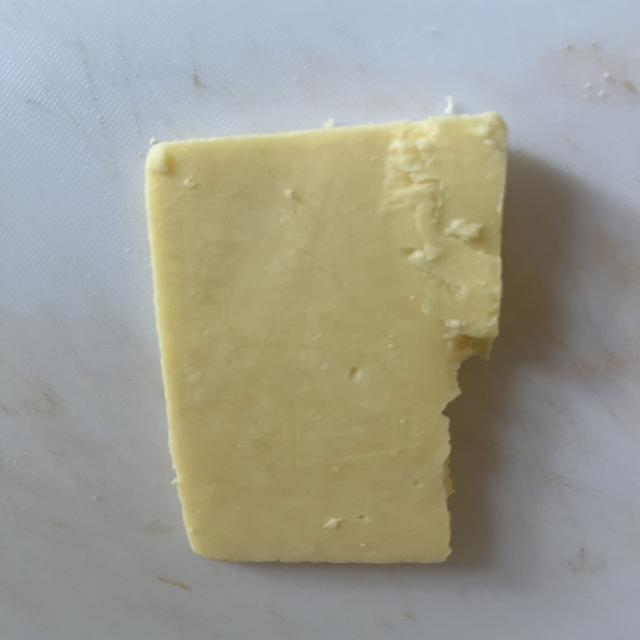cheese: (146, 112, 506, 563)
